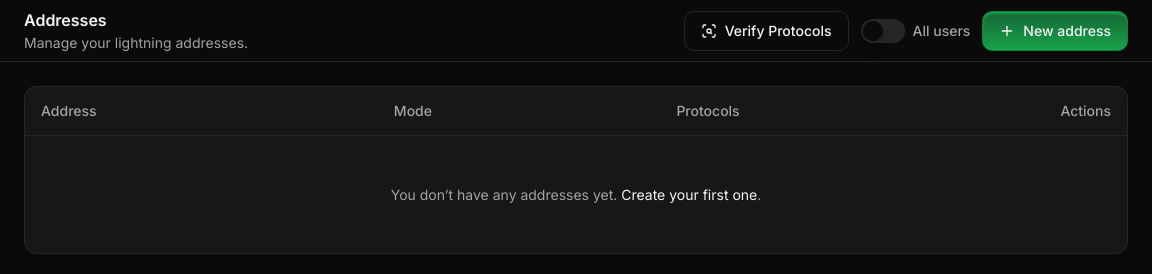
Scenario: AdminAddressesPage filler rows › spans the loading-state cell across all 5 columns in admin view
Click the switch named "All users". click: [882, 30]
box: [860, 18, 904, 42]
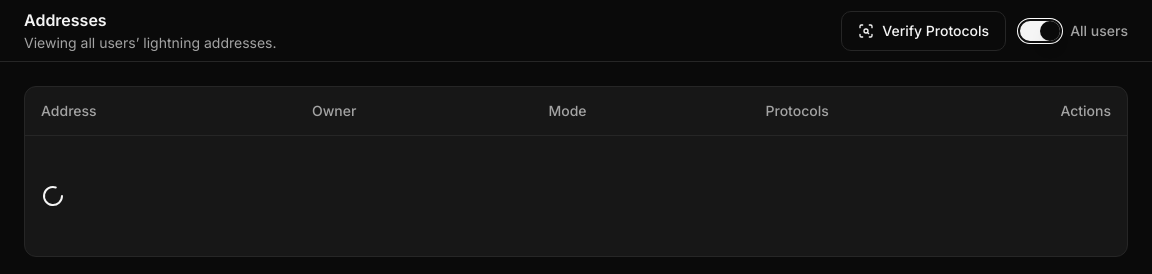
Expected: the icon with class "animate-spin" is shown, [41, 184, 65, 208]
